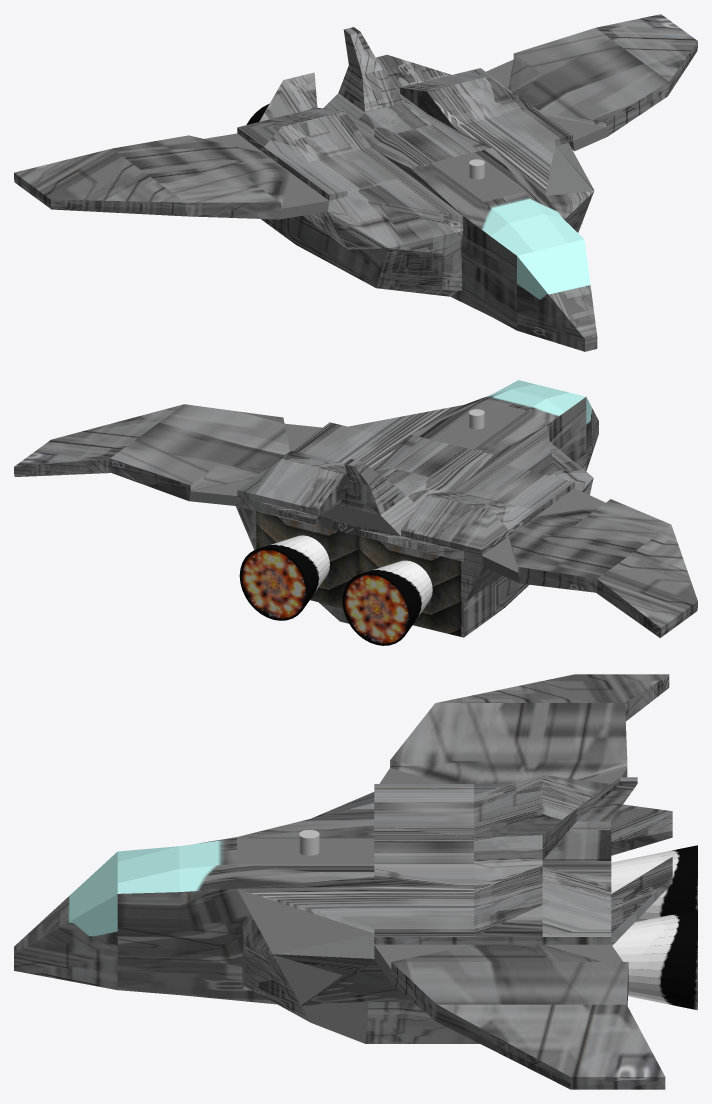
Rendered from spaceShip.obj.
3 views of the same model, one above another, from view 1: azimuth 30°, elevation 25°; view 2: azimuth 150°, elevation 25°; view 3: azimuth 270°, elevation 25° (orthographic). The views are drawn at different scales.
Visible parts, largest first — view 1: Spacecraft_Cube; view 2: Spacecraft_Cube, Thruster1_Cylinder, Thruster2_Cylinder.001; view 3: Spacecraft_Cube, Thruster1_Cylinder, Thruster2_Cylinder.001.
Part boxes in pixels (left/top/right/bottom): Spacecraft_Cube: left=14, top=14, right=697, bottom=351; Spacecraft_Cube: left=14, top=380, right=697, bottom=637; Thruster1_Cylinder: left=239, top=535, right=329, bottom=620; Thruster2_Cylinder.001: left=342, top=560, right=432, bottom=645; Spacecraft_Cube: left=14, top=674, right=672, bottom=1089; Thruster1_Cylinder: left=612, top=909, right=697, bottom=1010; Thruster2_Cylinder.001: left=611, top=845, right=697, bottom=921.
Bounding box in the file's own units: 15.71 × 3.92 × 11.2.
3 materials, 2 textured.
